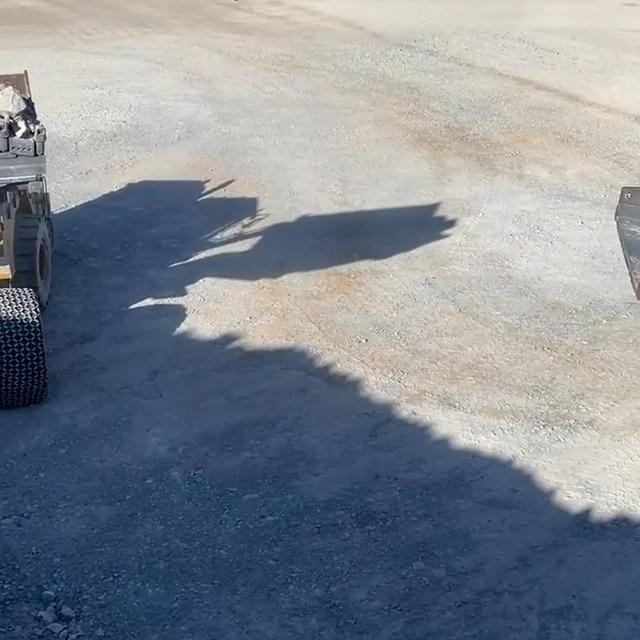wheel loader: (0, 64, 62, 440)
